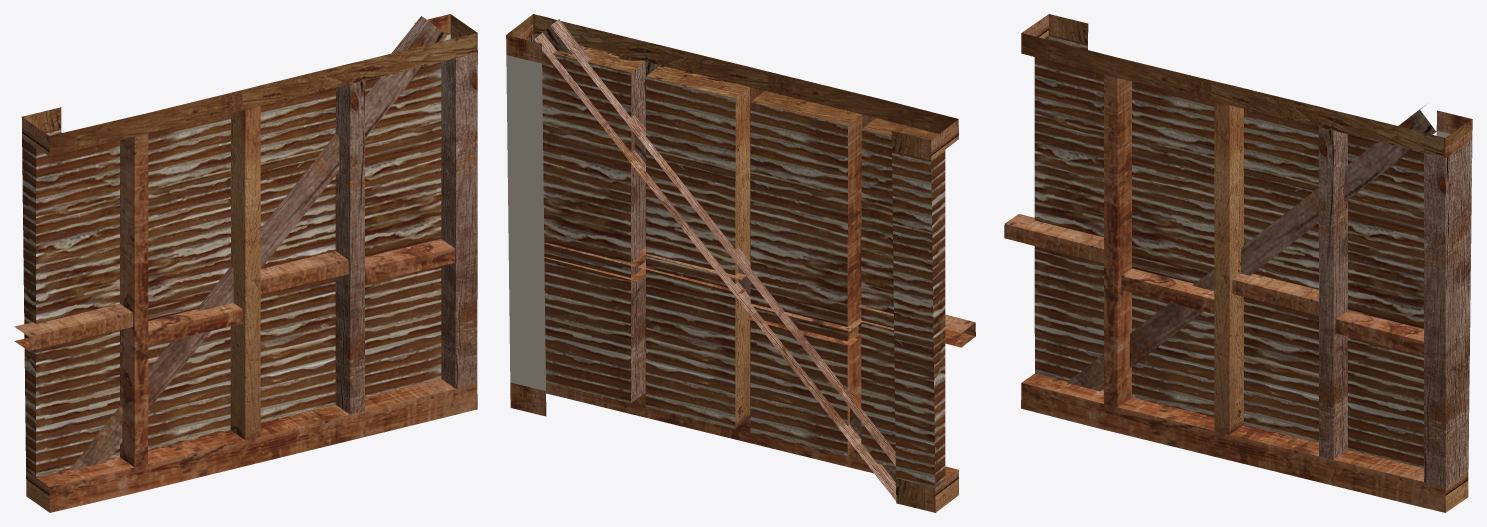
Rendered from SP_Wall3.fbx.
The picture shows the model from 3 angles, left to right: view 1: azimuth 30°, elevation 25°; view 2: azimuth 150°, elevation 25°; view 3: azimuth 330°, elevation 25°; orthographic projection.
Visible parts, largest first — view 1: SP_Wall3; view 2: SP_Wall3; view 3: SP_Wall3.
Boxes of the visible parts, x1,y1,x2,y2 form: SP_Wall3: (14, 14, 477, 512); SP_Wall3: (506, 14, 975, 512); SP_Wall3: (1004, 14, 1472, 512).
Bounding box in the file's own units: 370 × 310 × 41.78.
